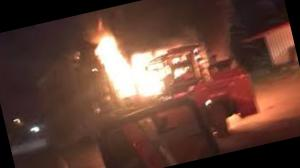Fire: (84, 16, 184, 112)
